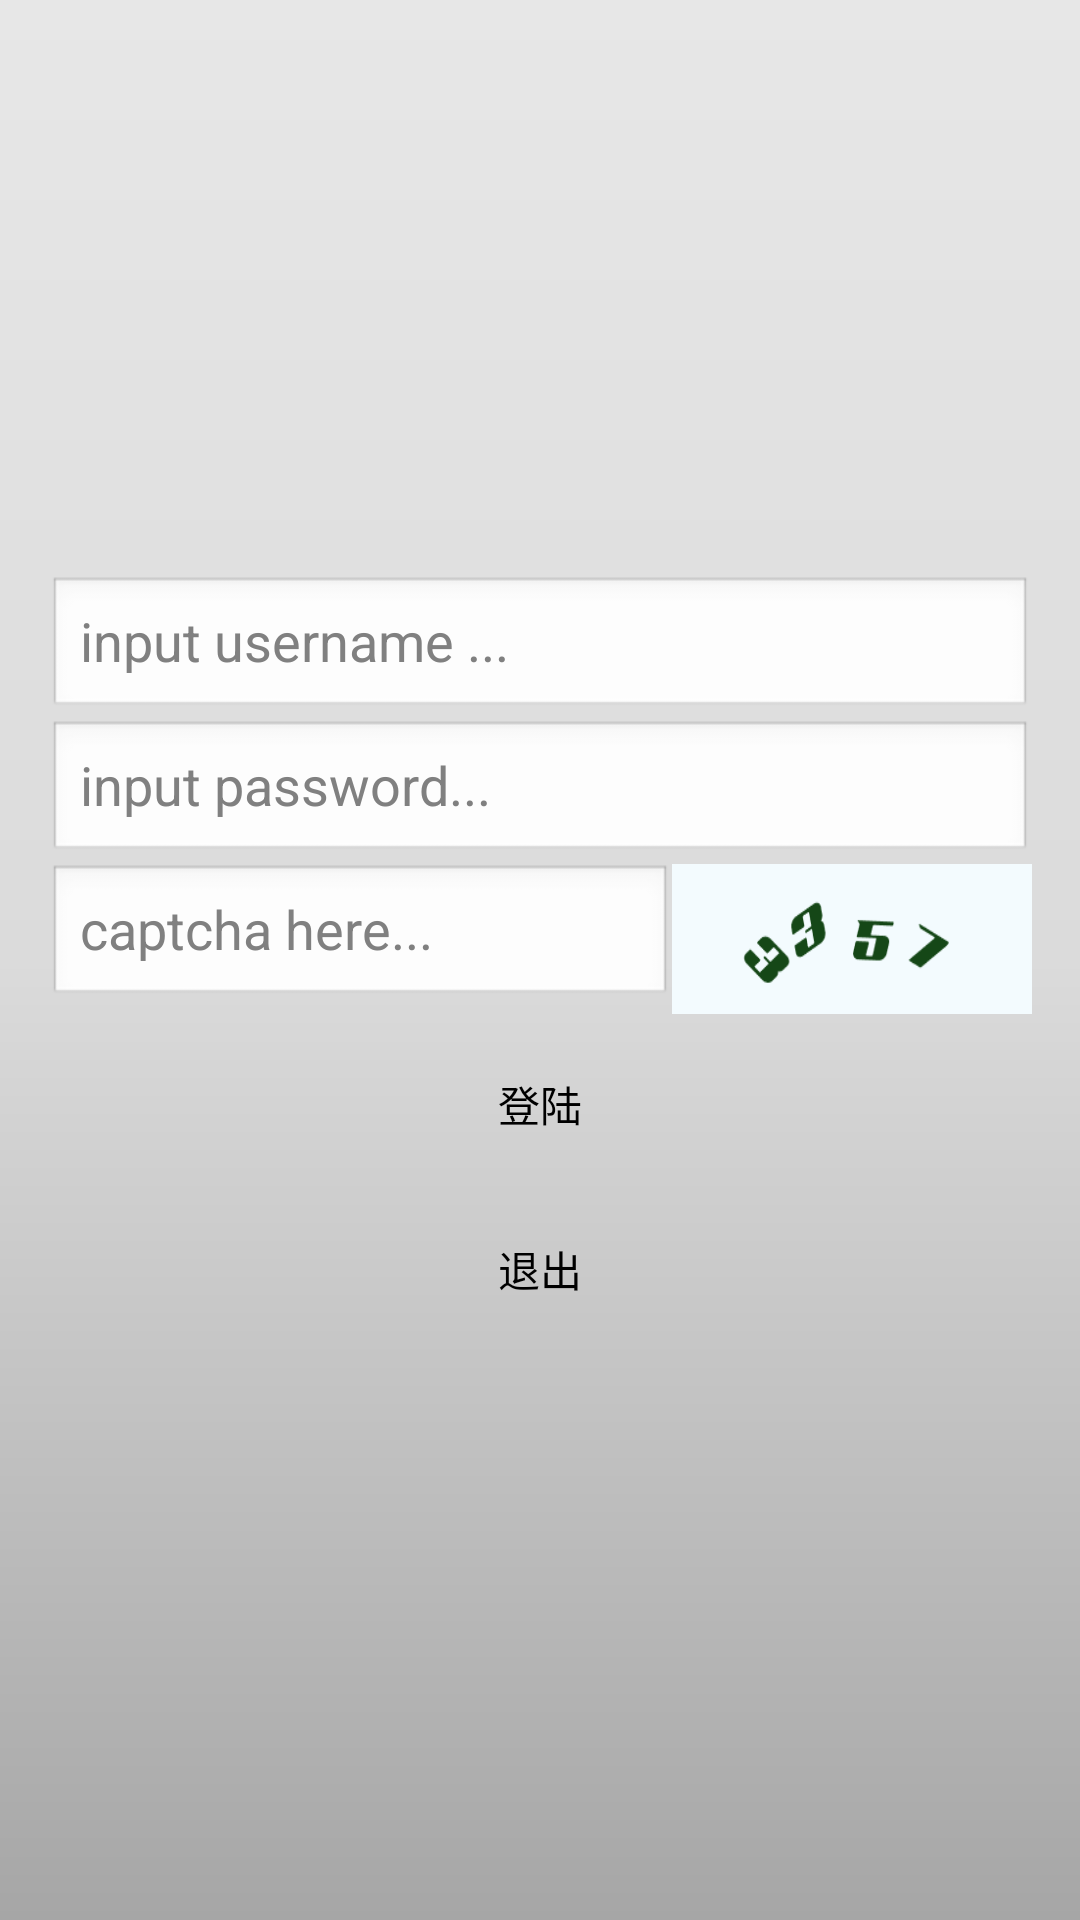

Icons on this 1080*1920 Android screen, each with the point to tap as (x=x, y=y):
oacode: (x=852, y=939)
